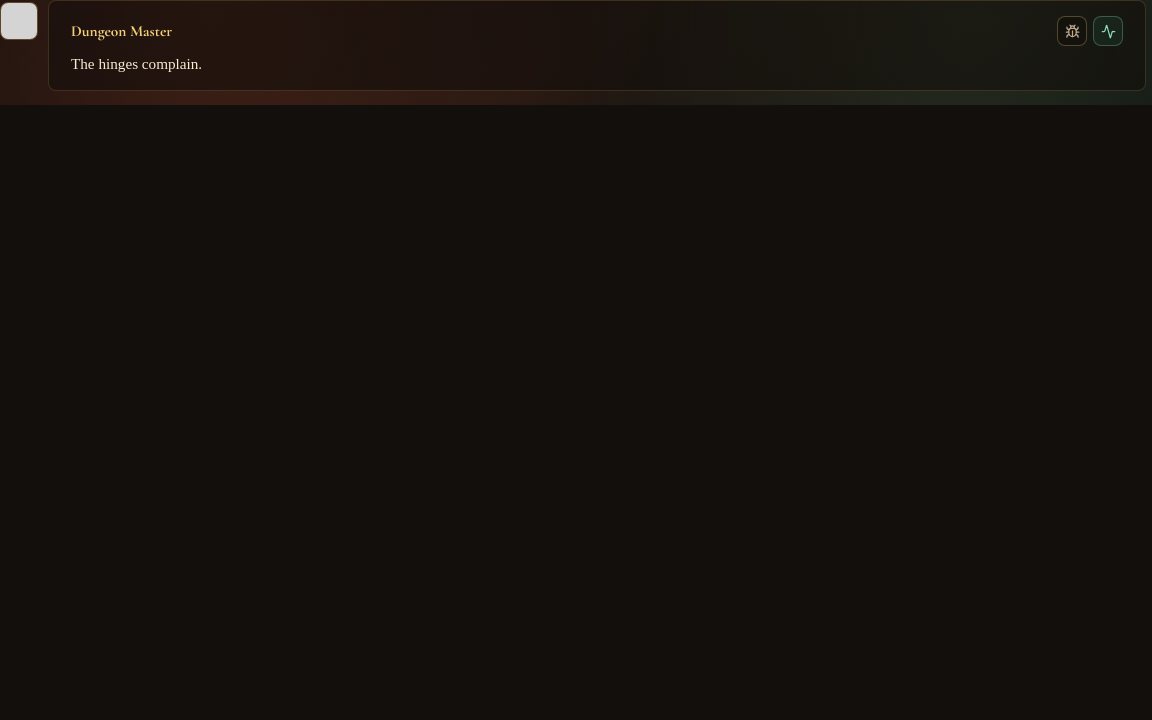
MessageLog › opens and closes AI debug details for debugged DM messages
The width and height of the screenshot is (1152, 720).
expect the picture named "pressure engine ran" is shown: met, box [1093, 16, 1123, 46]
Click the button named "show ai debug details". click: coordinates (1072, 31)
box: [1057, 16, 1087, 46]
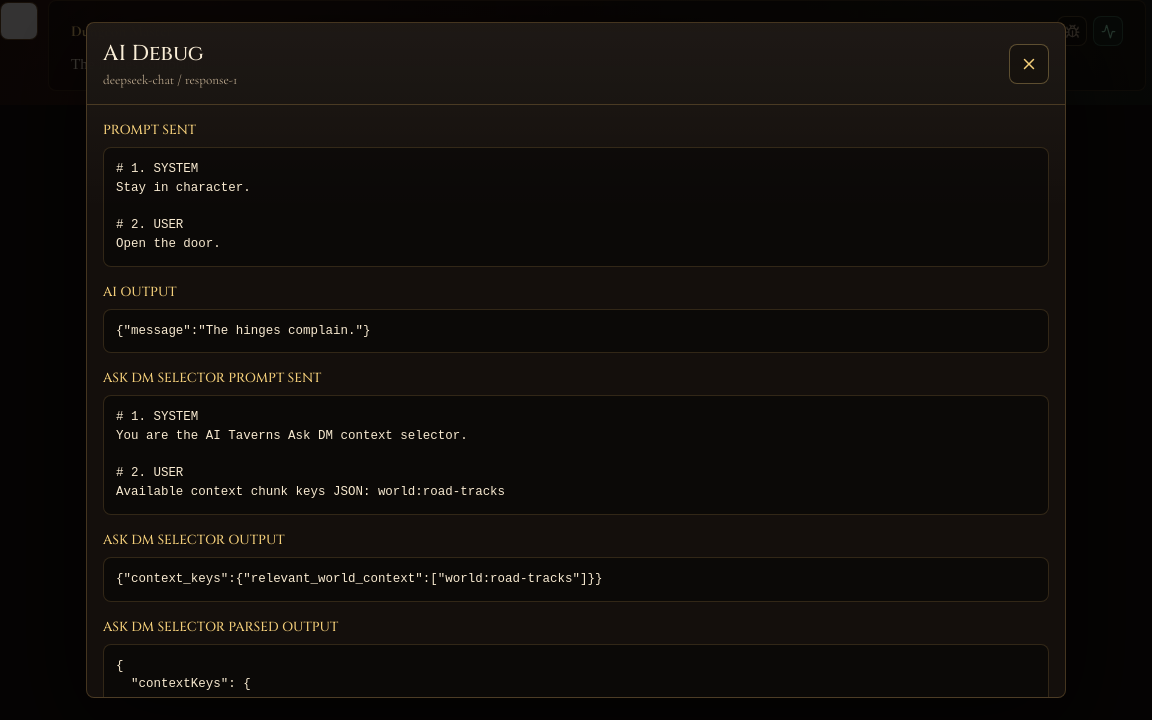
expect the dialog "AI Debug" is shown: met
expect the text "deepseek-chat / response-1" is shown: met, box [103, 72, 237, 88]
expect the text "{\"message\":\"The hinges complain.\"}" is shown: met, box [103, 309, 1049, 353]
Click the button named "close debug details". click: coordinates (1029, 64)
box: [1009, 44, 1049, 84]
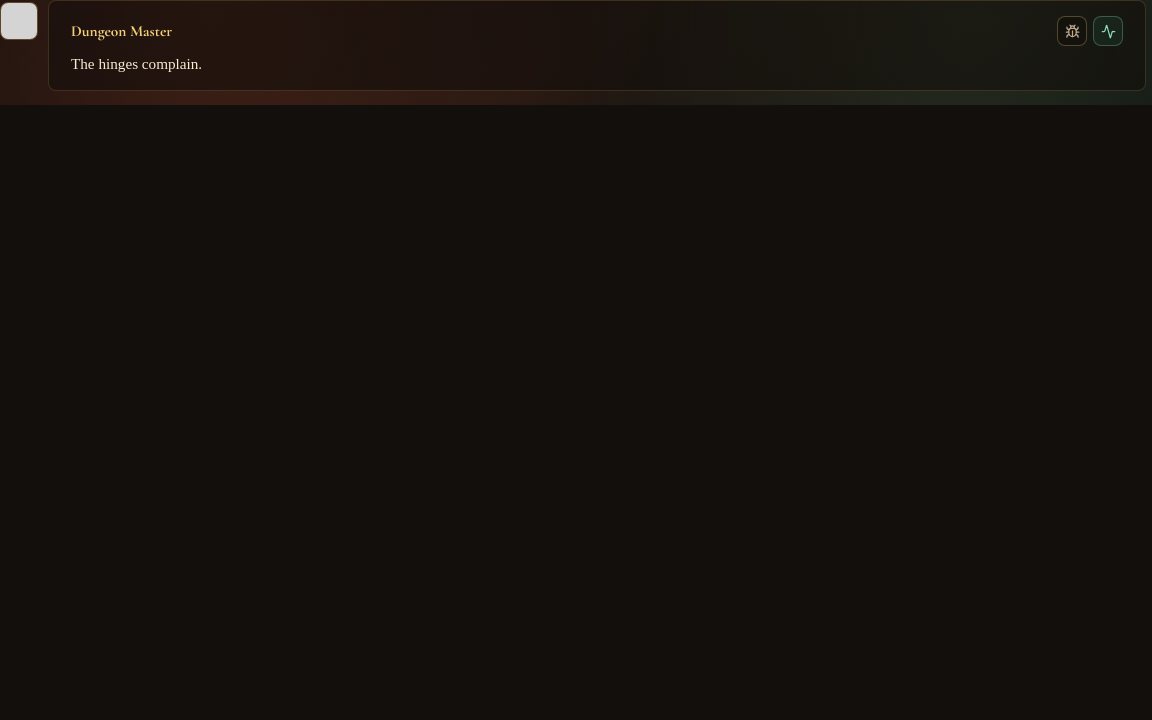
expect the heading "AI Debug" is gone: met
